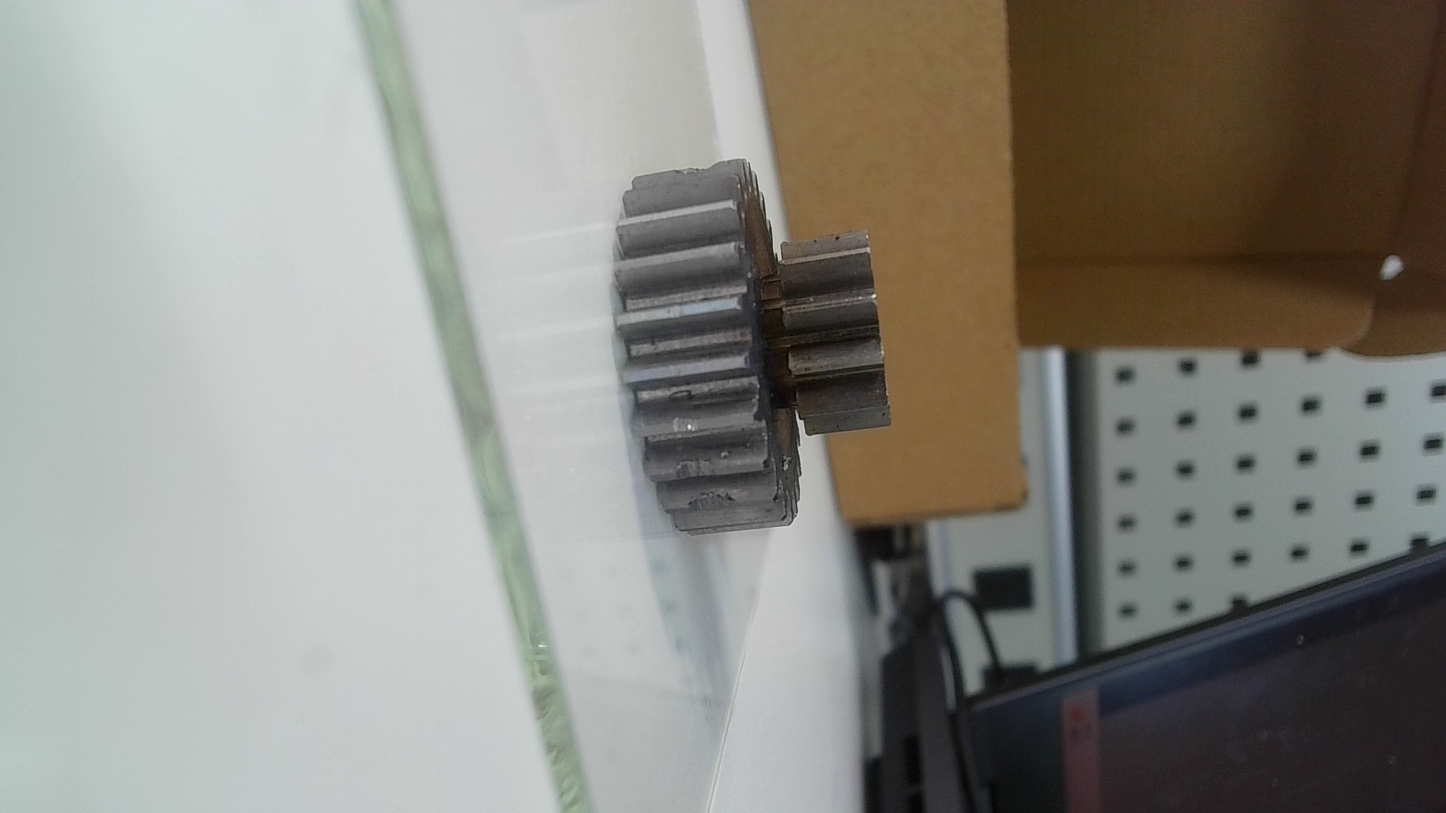gear: (610, 142, 908, 547)
